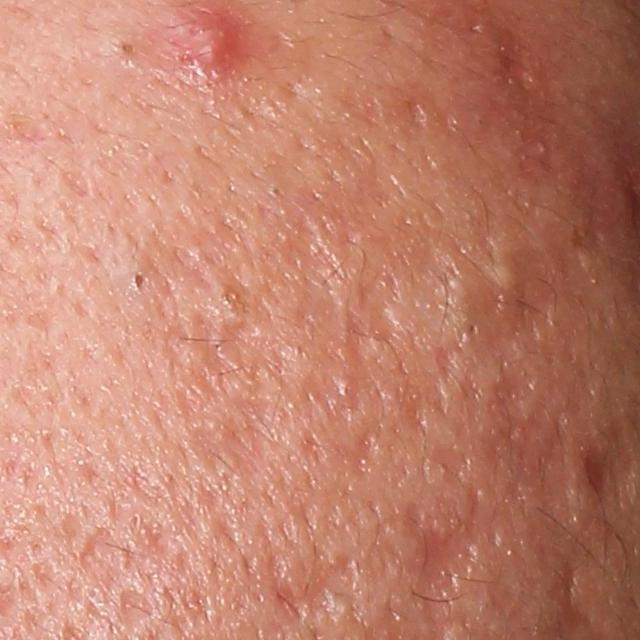atrophic_scar: (464, 245, 562, 364), (174, 308, 244, 422), (266, 554, 363, 629), (286, 219, 347, 338), (225, 315, 313, 385), (187, 418, 270, 486), (585, 415, 637, 509), (340, 265, 402, 342), (486, 15, 538, 92), (485, 364, 534, 424), (340, 334, 375, 412), (117, 588, 157, 630), (77, 525, 113, 570), (353, 432, 380, 479), (60, 165, 94, 198), (405, 94, 430, 132)
comedo: (107, 32, 140, 64), (128, 270, 153, 295)
hypertrophic_scar: (480, 250, 527, 290)
